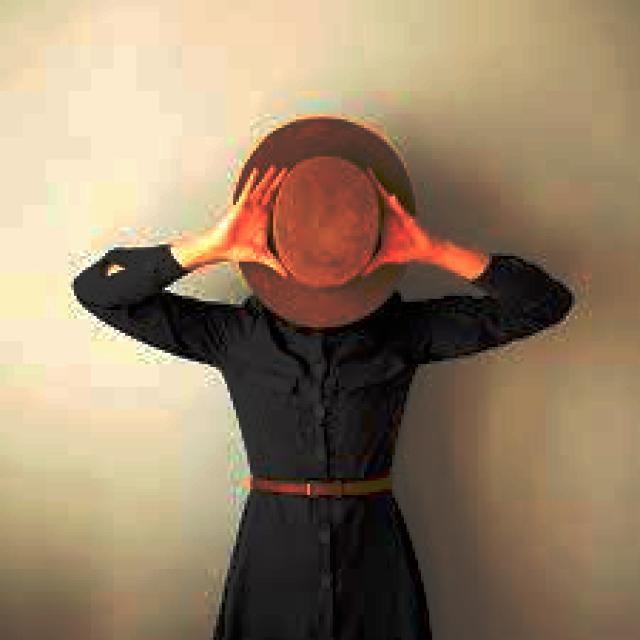TOPI: (222, 108, 418, 327)
